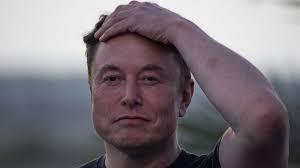Persons: (79, 9, 190, 155)
